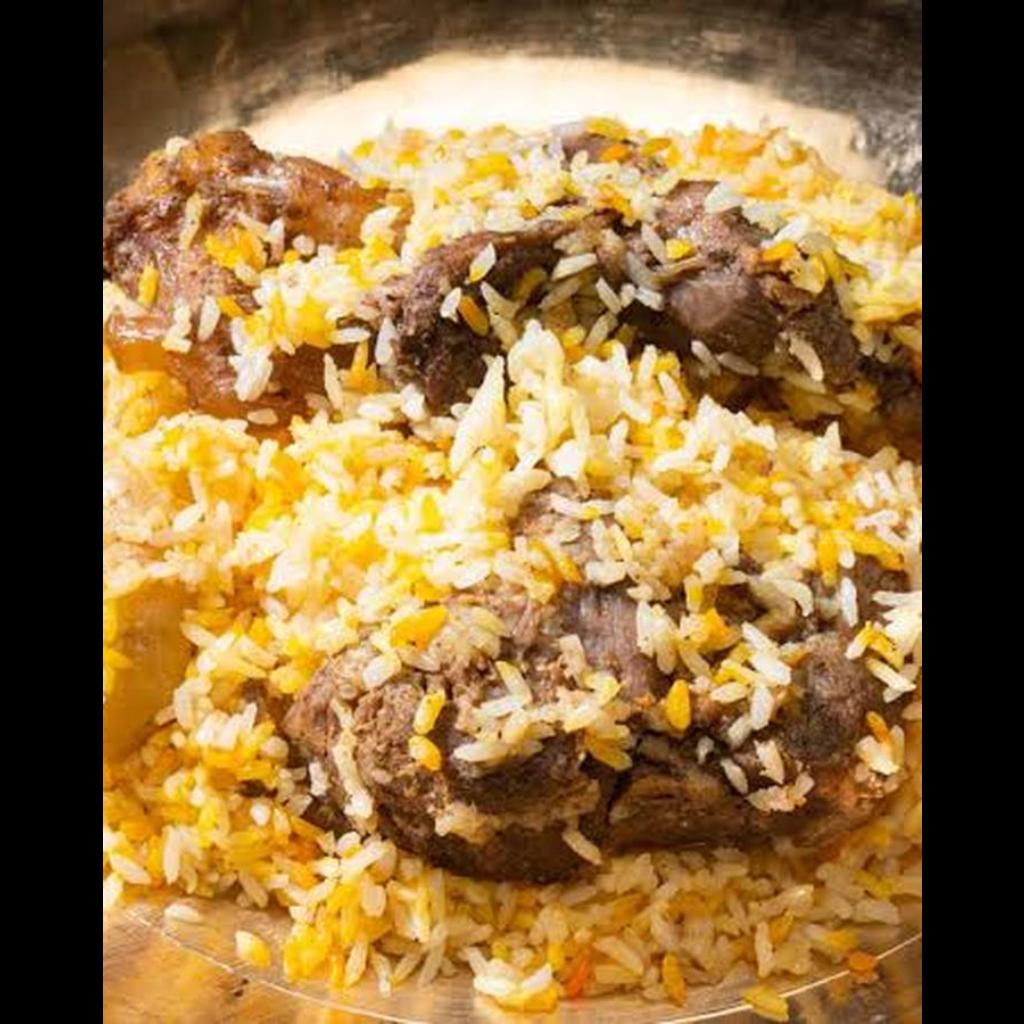biriyani: (102, 124, 920, 1006)
